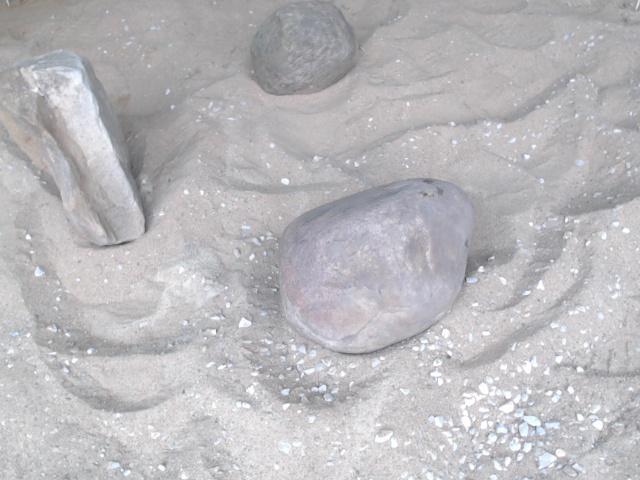rock: (271, 172, 480, 362), (1, 43, 151, 255), (245, 1, 360, 102)
